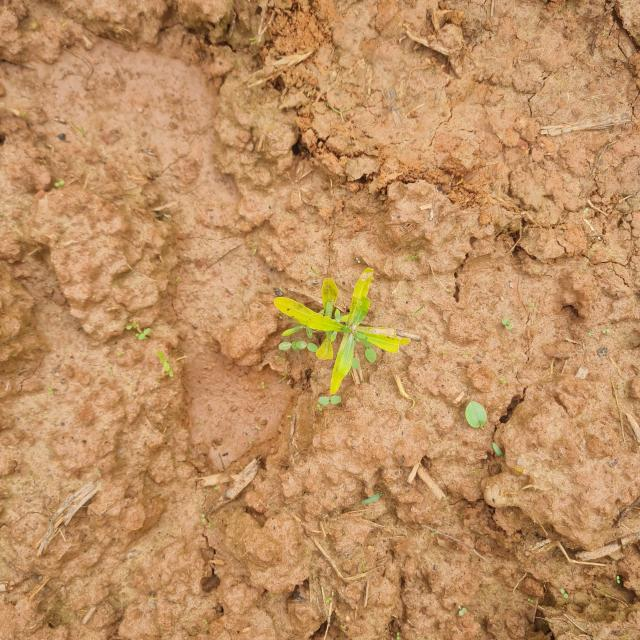weed: (251, 272, 420, 412), (454, 390, 499, 430), (150, 347, 180, 391), (124, 313, 154, 345), (496, 311, 518, 343)
